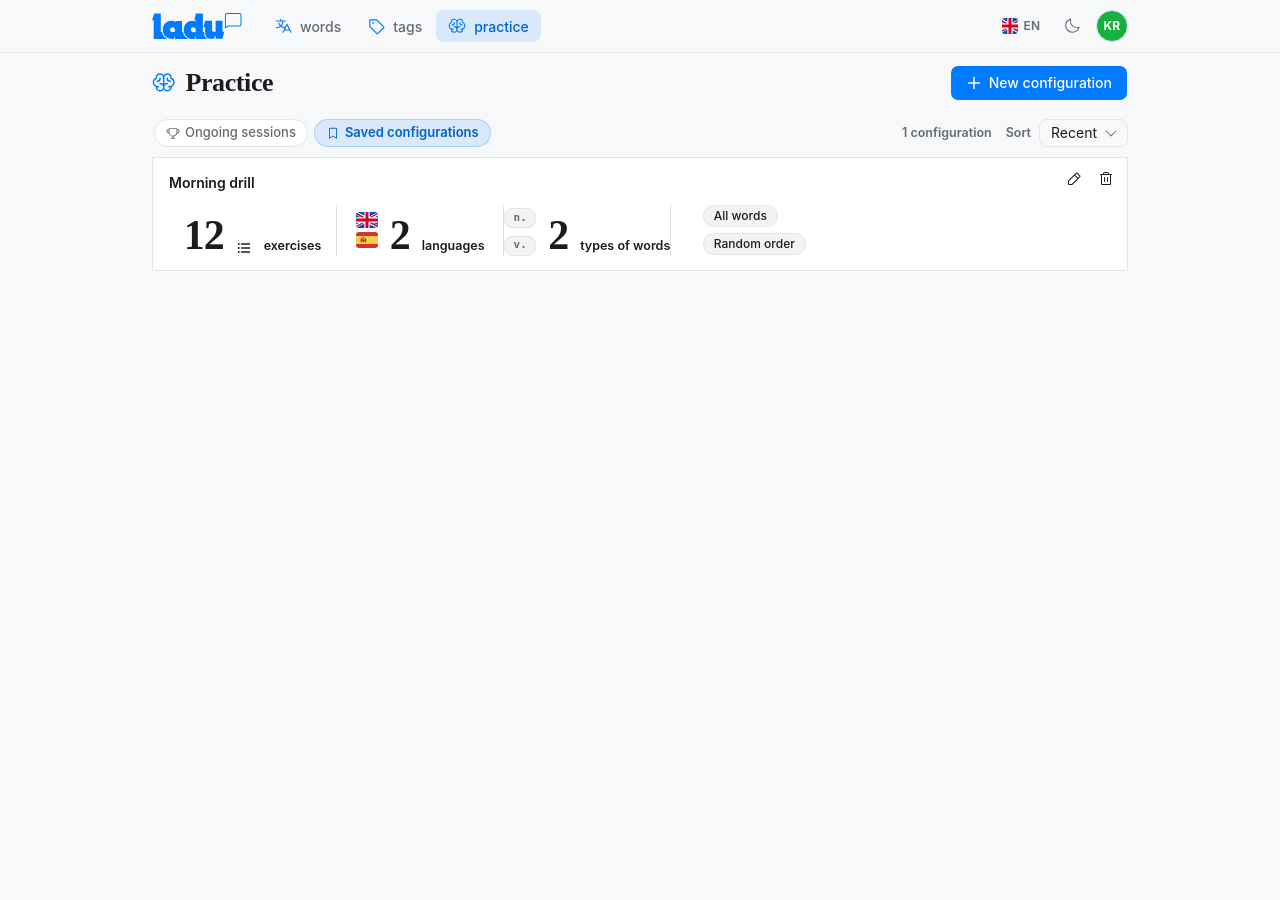
Saved sessions list › says so when there are none
What coordinates should you click on to do the following:
click the button "Ongoing sessions"
I would click on:
 (231, 133)
Its box is [154,119,308,147].
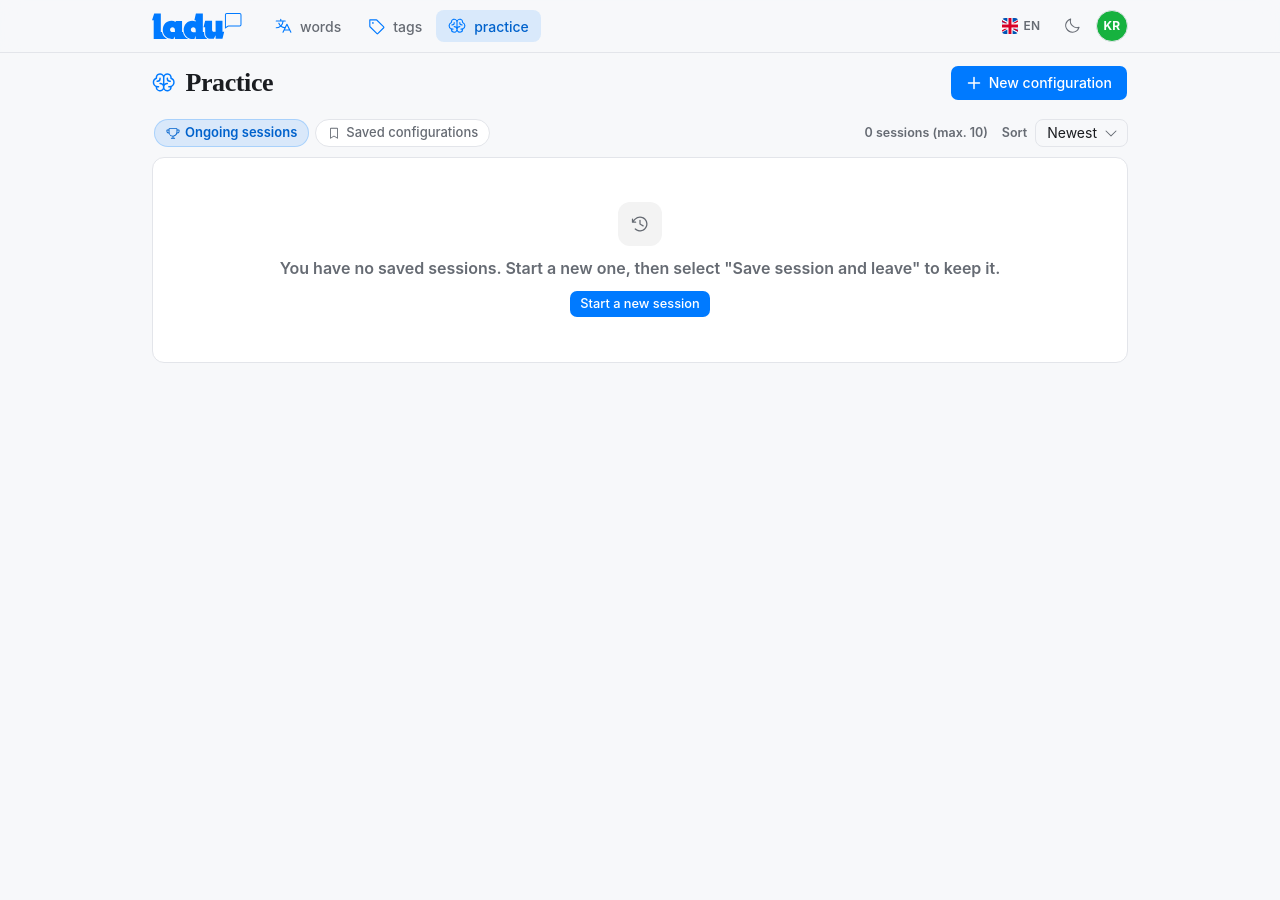
Check: the text "You have no saved sessions" is shown, box [280,258,1000,278]
Check: the text "0 sessions (max. 10)" is shown, box [864,124,988,142]
What coordinates should you click on to do the following:
click the button "Start a new session"
I would click on:
 (640, 304)
Its box is [569,290,711,318].
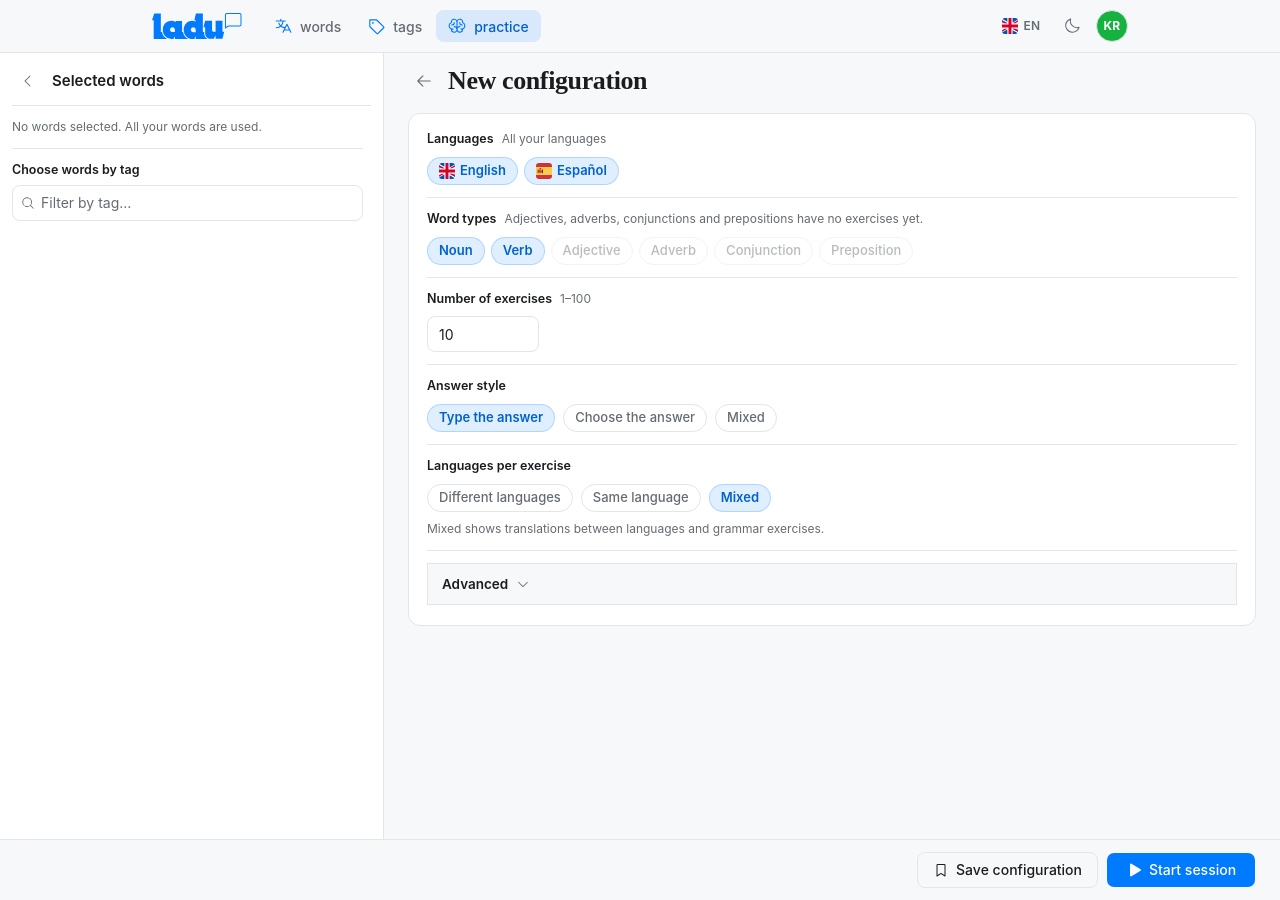
Check: the heading "New configuration" is shown, box [448,66,647,96]
